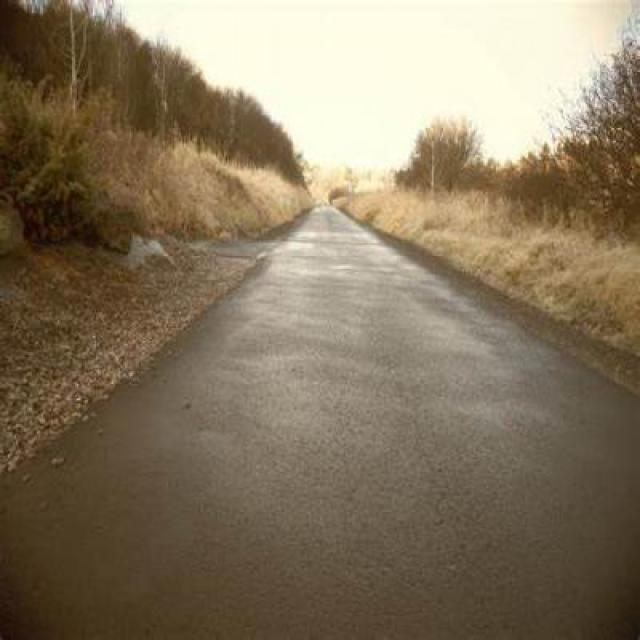clear-road: (0, 207, 640, 639)
